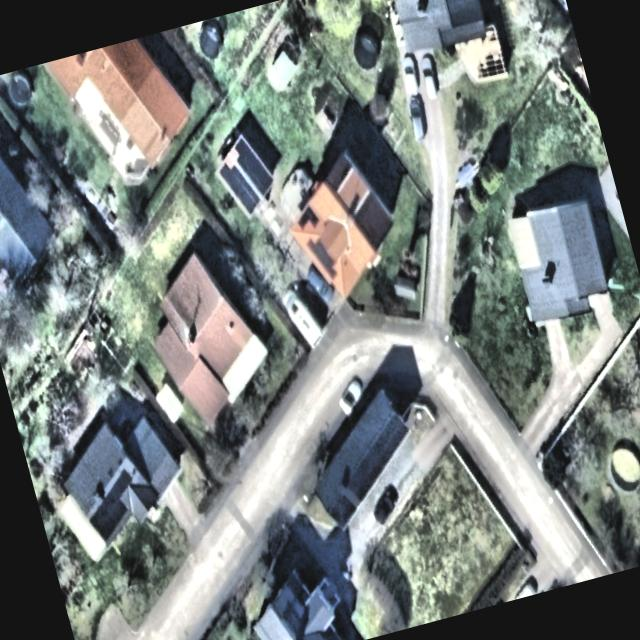roof_pv: (83, 488, 132, 542), (302, 230, 342, 284), (214, 158, 248, 195), (232, 134, 264, 173), (292, 198, 324, 236), (246, 166, 276, 196), (236, 187, 264, 216), (110, 467, 136, 498)
